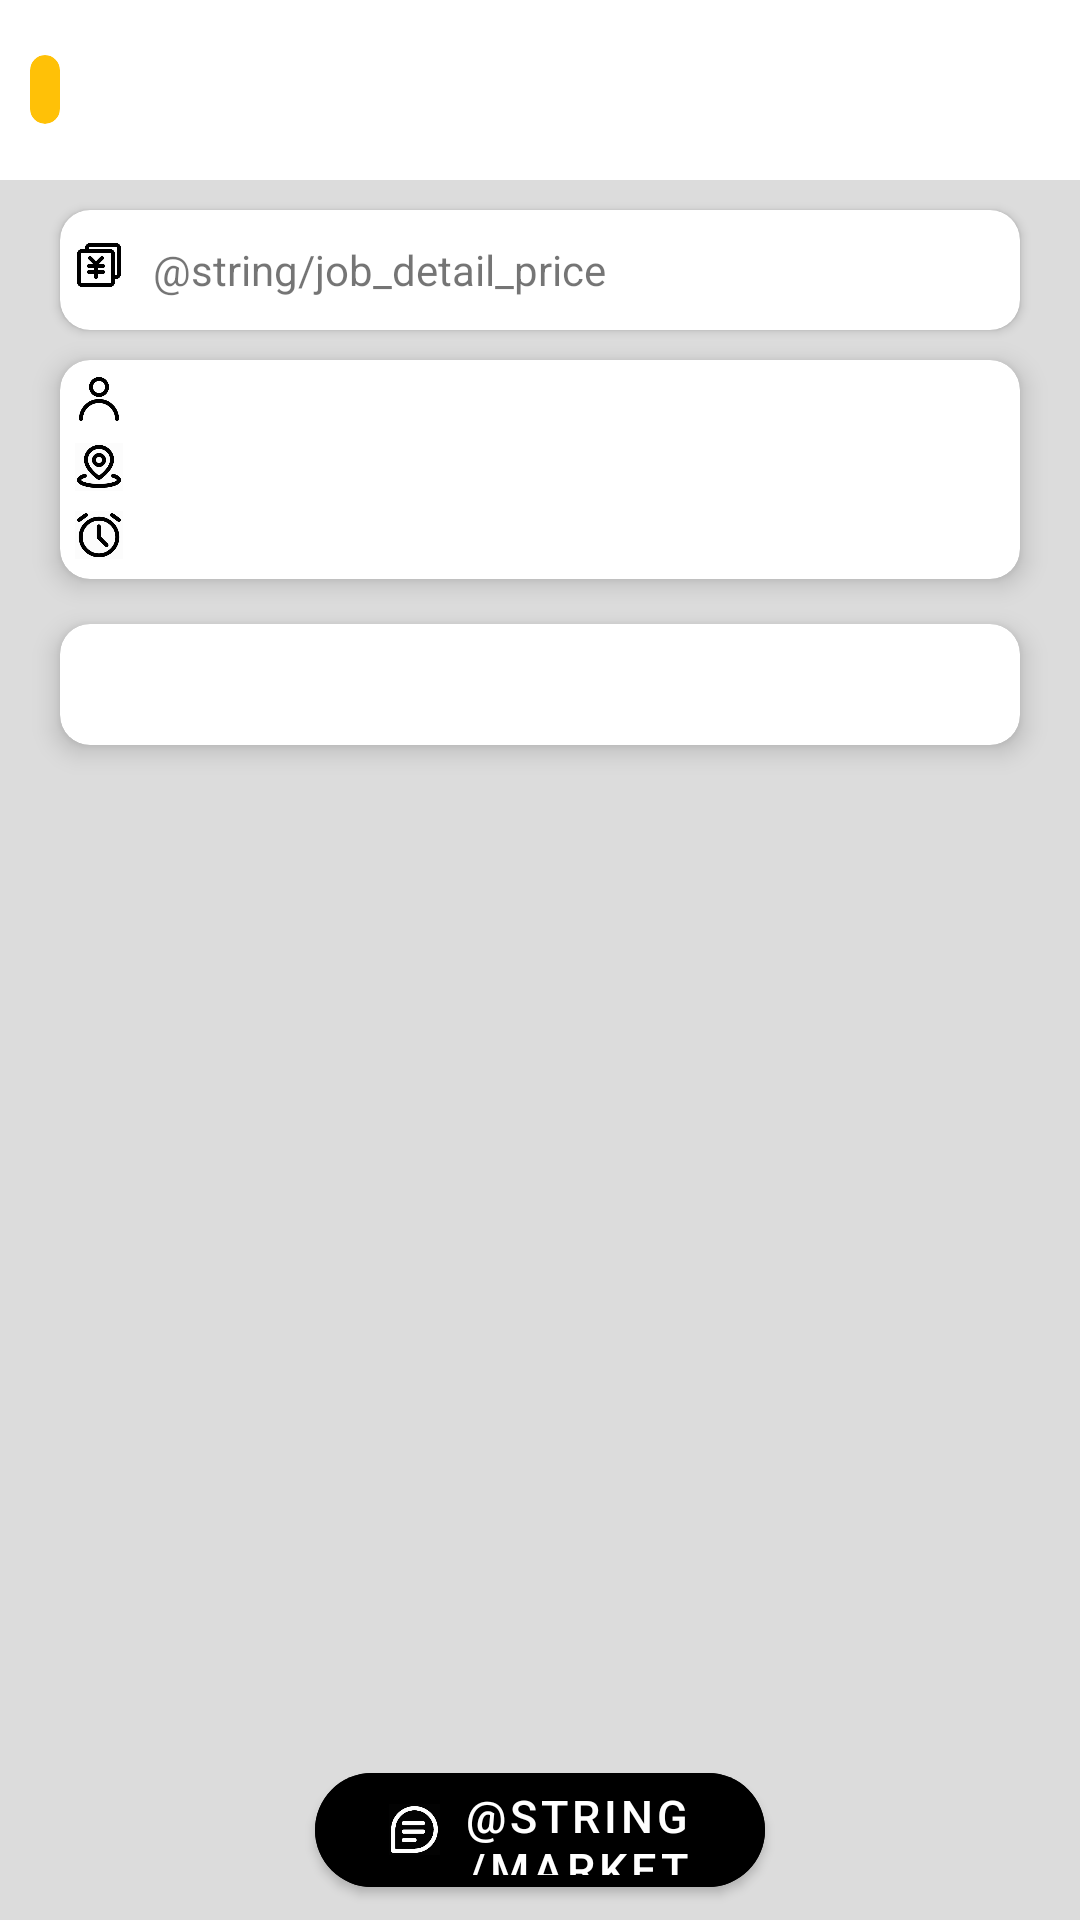

Where icons sit on this 1080w x 1920h app screen, as bbox=(x1, y1, x2, y2):
bai activity local: bbox=(77, 445, 121, 488)
bai activity time: bbox=(77, 513, 121, 557)
job boss: bbox=(79, 377, 119, 421)
job salary: bbox=(77, 243, 121, 287)
